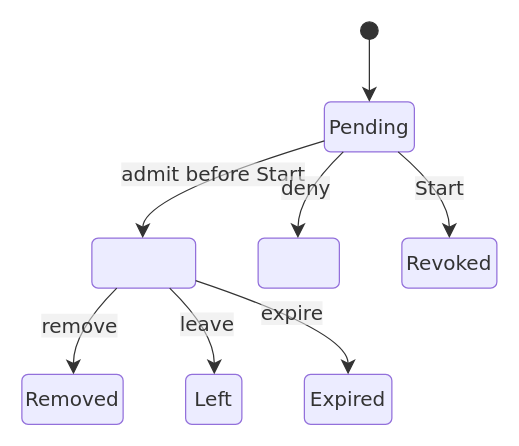
This 519x446 diagram has some shape labels left out. The centre of each missing label's shape, as x and y in pixels:
"Admitted" belongs at point (143, 262).
"Denied" belongs at point (298, 262).
